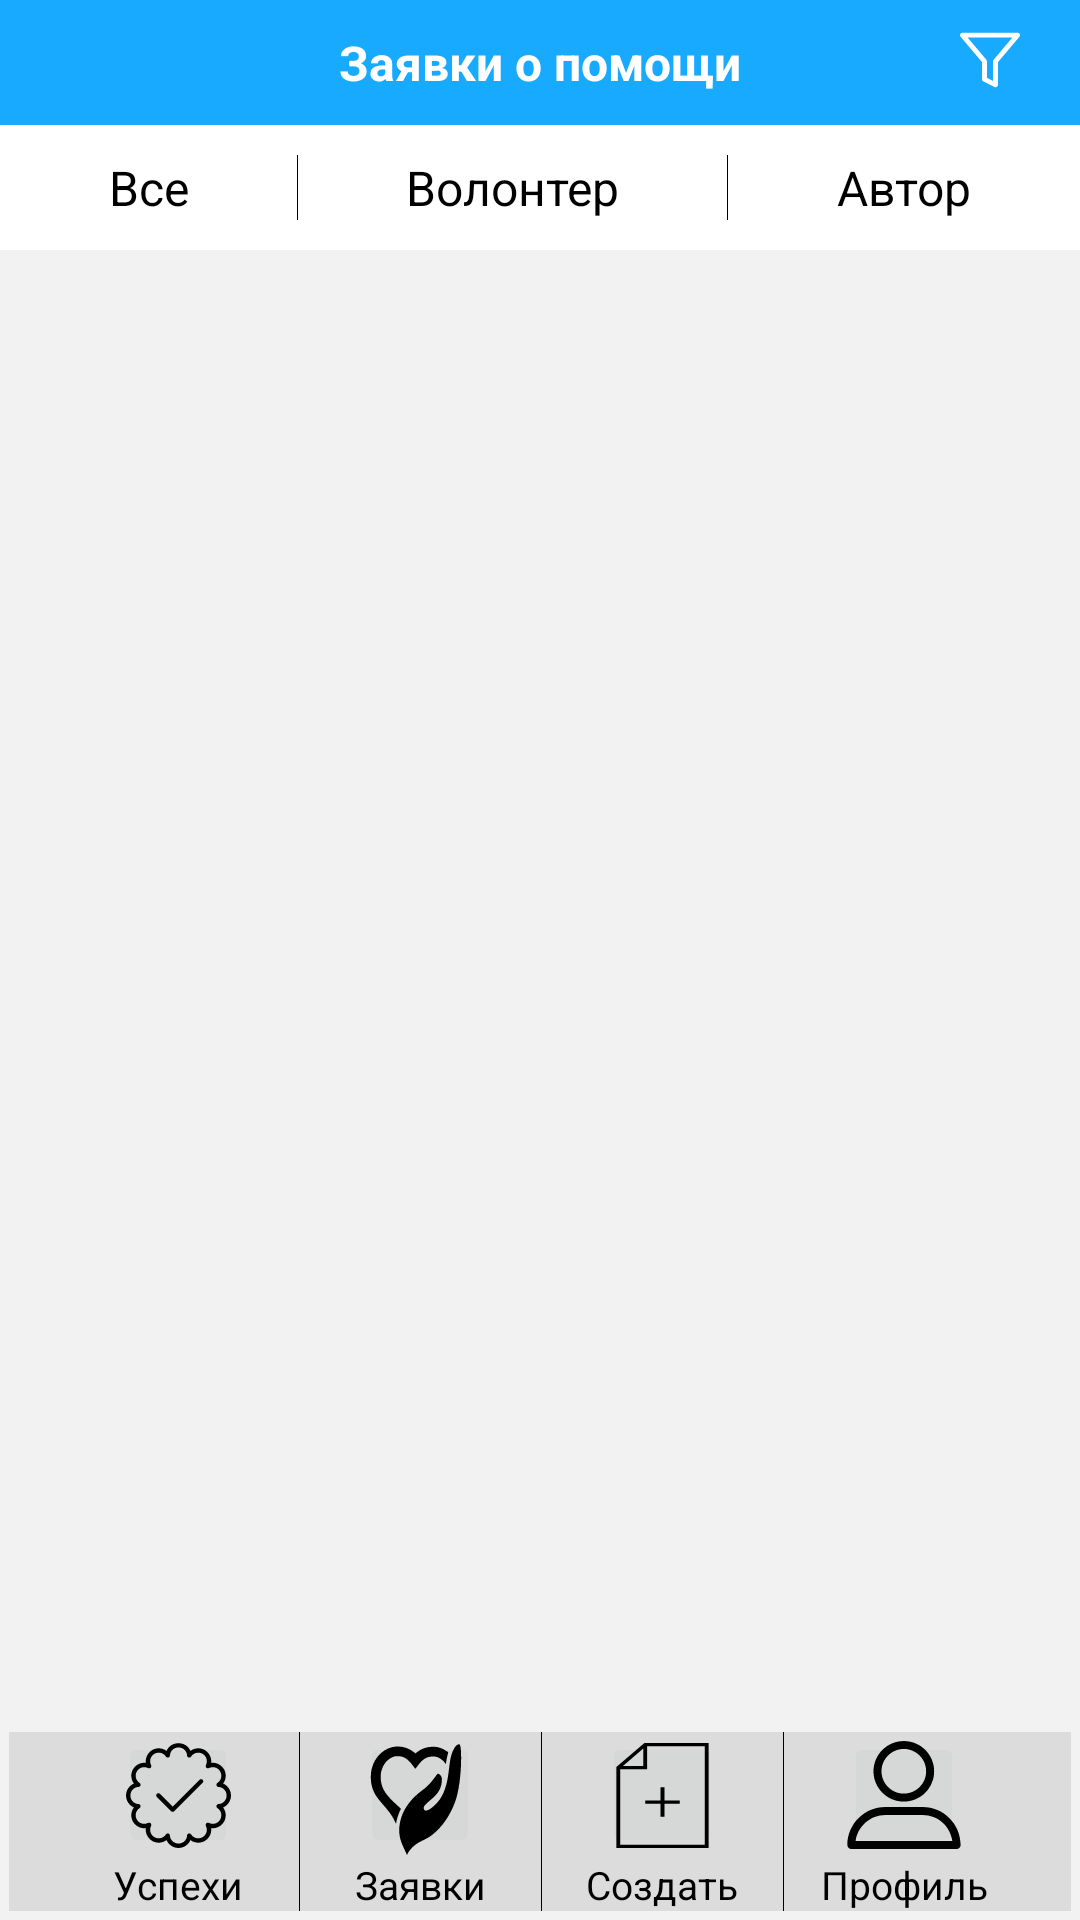

Screen size 1080 × 1920. Icon name, then its center in pixels as point (x, y):
filter: point (990, 60)
newrequsthelp: point (662, 1795)
